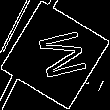M_W: (25, 27, 85, 83)
